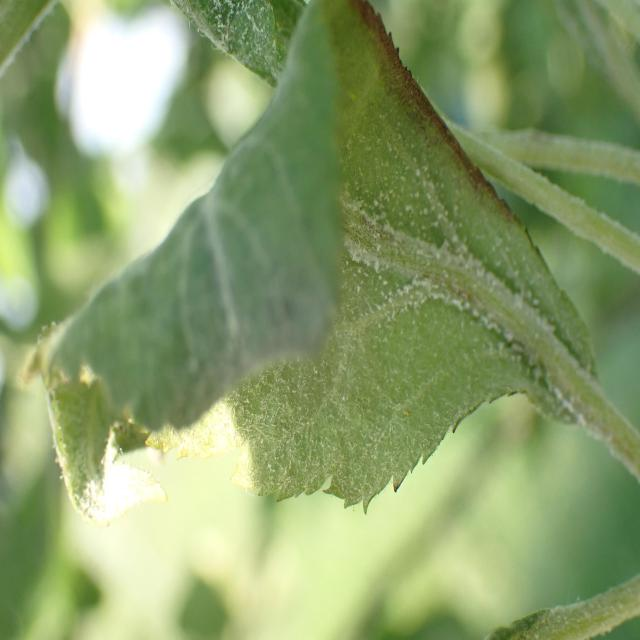Powdery_mildew: (66, 0, 595, 518)
